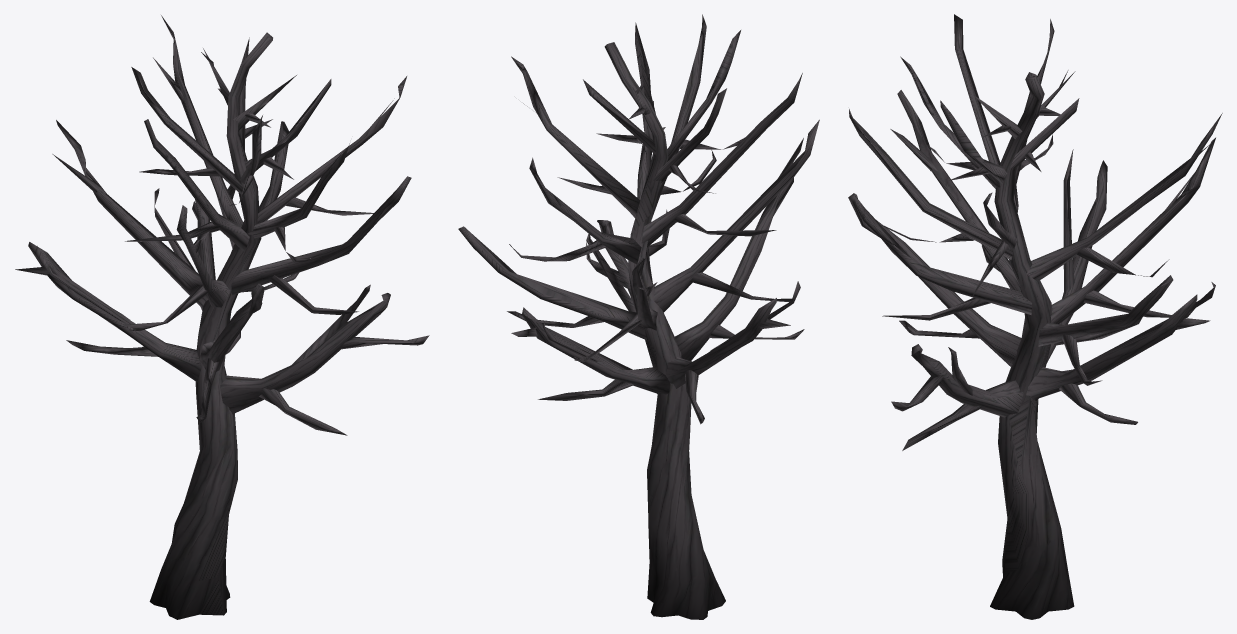
File: DeadTree_1.medium.gltf
3 views of the same model, side by side, from view 1: azimuth 30°, elevation 25°; view 2: azimuth 150°, elevation 25°; view 3: azimuth 270°, elevation 25° (orthographic). The views are drawn at different scales.
Visible parts, largest first — view 1: DeadTree_1; view 2: DeadTree_1; view 3: DeadTree_1.
Part boxes in pixels (x1=…): DeadTree_1: x1=15, y1=15, x2=429, y2=619; DeadTree_1: x1=458, y1=14, x2=819, y2=619; DeadTree_1: x1=848, y1=14, x2=1222, y2=619.
Size of the model in its own units: 6.12 by 9.5 by 5.7.
1 material, 1 textured.
